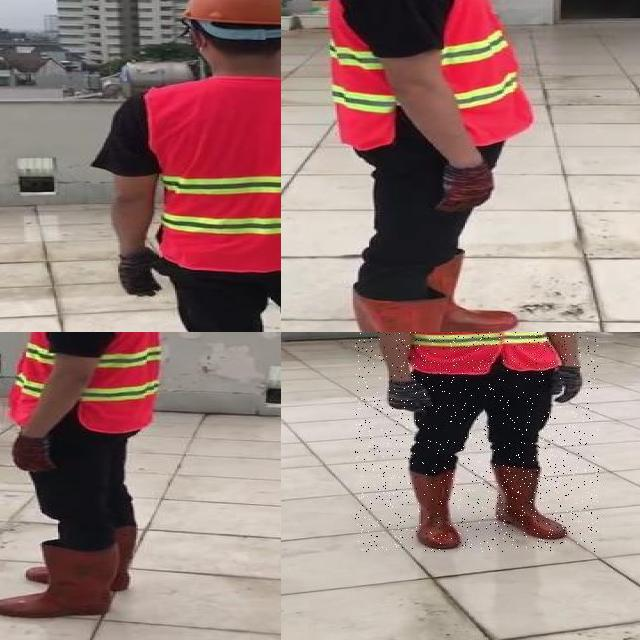boots: (0, 545, 113, 617), (424, 254, 520, 332), (28, 523, 136, 592), (351, 286, 509, 332), (495, 461, 573, 543), (401, 469, 462, 551)
hand_glove: (435, 163, 495, 212), (118, 253, 163, 297), (10, 436, 56, 474)
head_helmet: (175, 0, 281, 32)
person: (316, 0, 570, 332), (104, 0, 281, 332), (355, 332, 599, 552), (0, 332, 176, 628)
vest: (329, 0, 534, 149), (148, 77, 281, 270), (0, 332, 159, 433), (403, 332, 565, 375)
